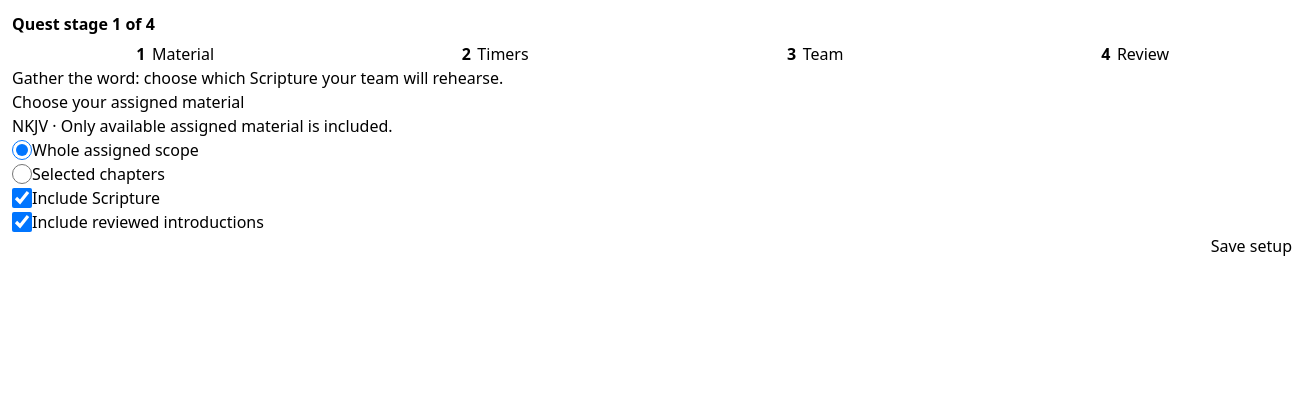
Test: Simulation setup › tells a coach the audio presenter must be a team member once students join
Click the tab "3 Team": click(812, 54) top-left (652, 42), bottom-right (972, 66)
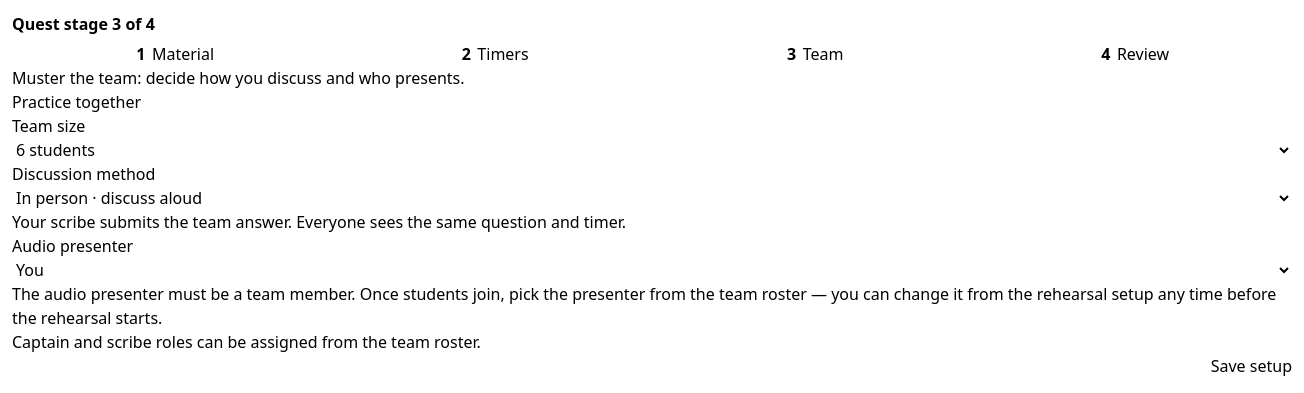
Expected: the text "The audio presenter must be a team member" is shown, top-left (12, 283), bottom-right (1276, 329)
